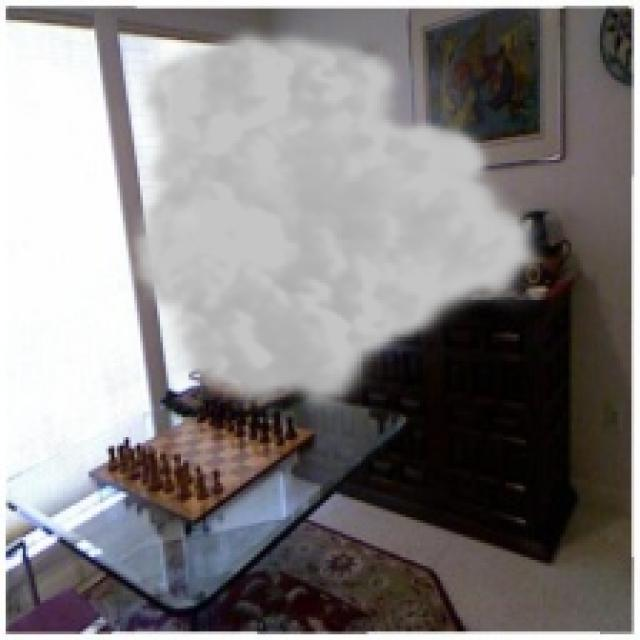Smoke: (126, 23, 552, 420)
